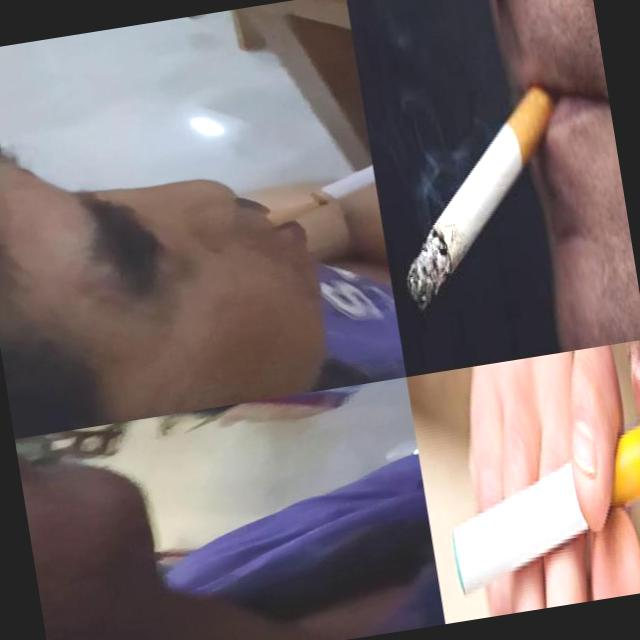cigarette: (381, 84, 582, 312), (436, 419, 640, 596), (254, 136, 380, 232)
